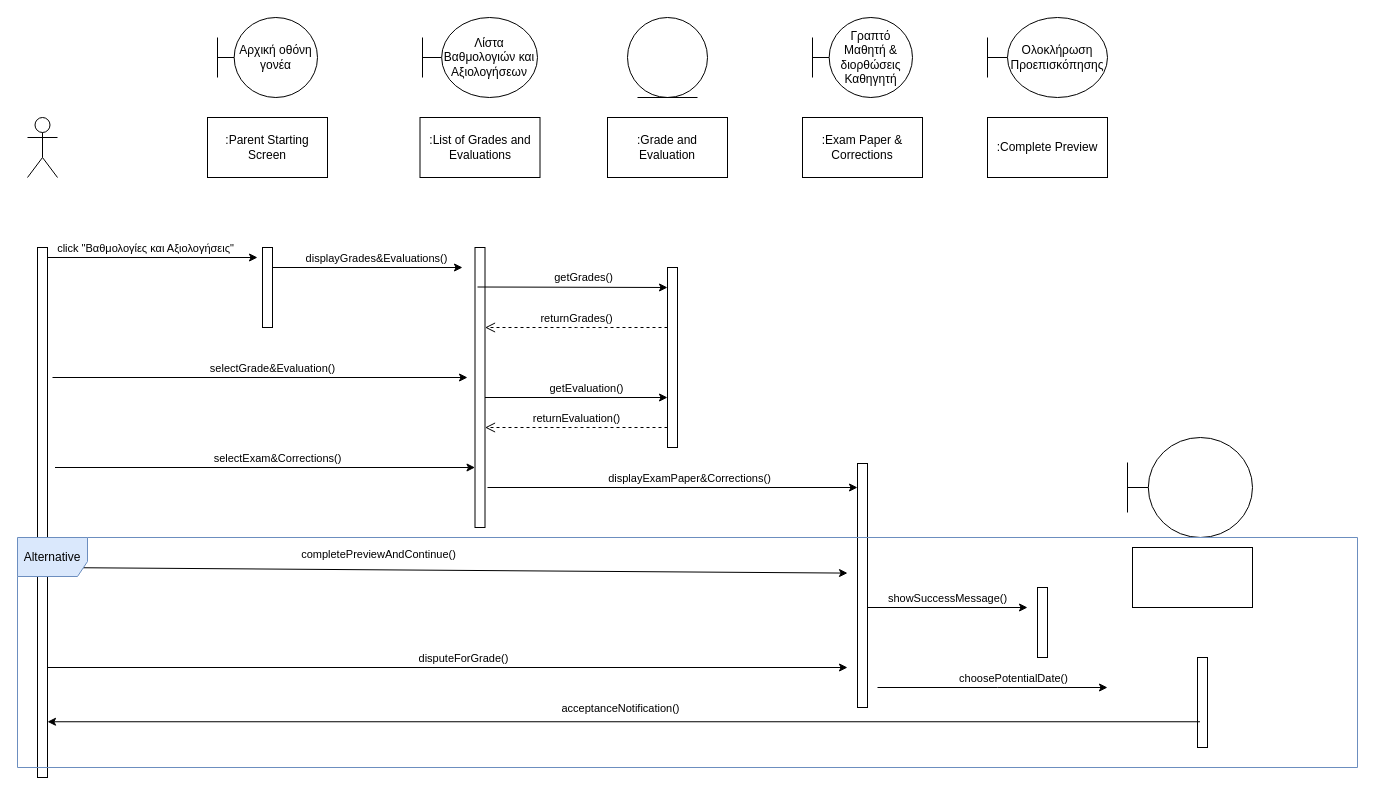
The diagram is 1375 pixels wide and 795 high, and some of its shapes have lost their labels. The centre of each missing label's shape, as x and y in pixels:
:Communication page: (x=1192, y=577)
Βαθμολογία και Αξιολόγηση: (x=667, y=57)
Γονέας: (x=42, y=147)
Δήλωση επιθυμίας για επικοινωνία: (x=1189, y=487)
